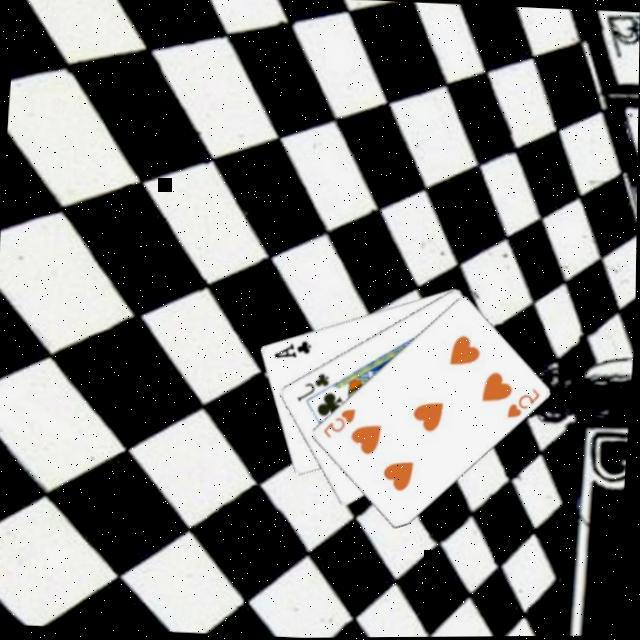5H: (322, 405, 362, 443), (506, 386, 546, 424)
AC: (273, 337, 316, 363)
JC: (296, 370, 336, 408)
